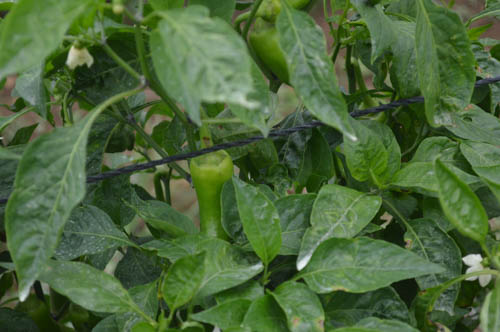ChiliPepper: (187, 154, 235, 270), (255, 29, 300, 97)
